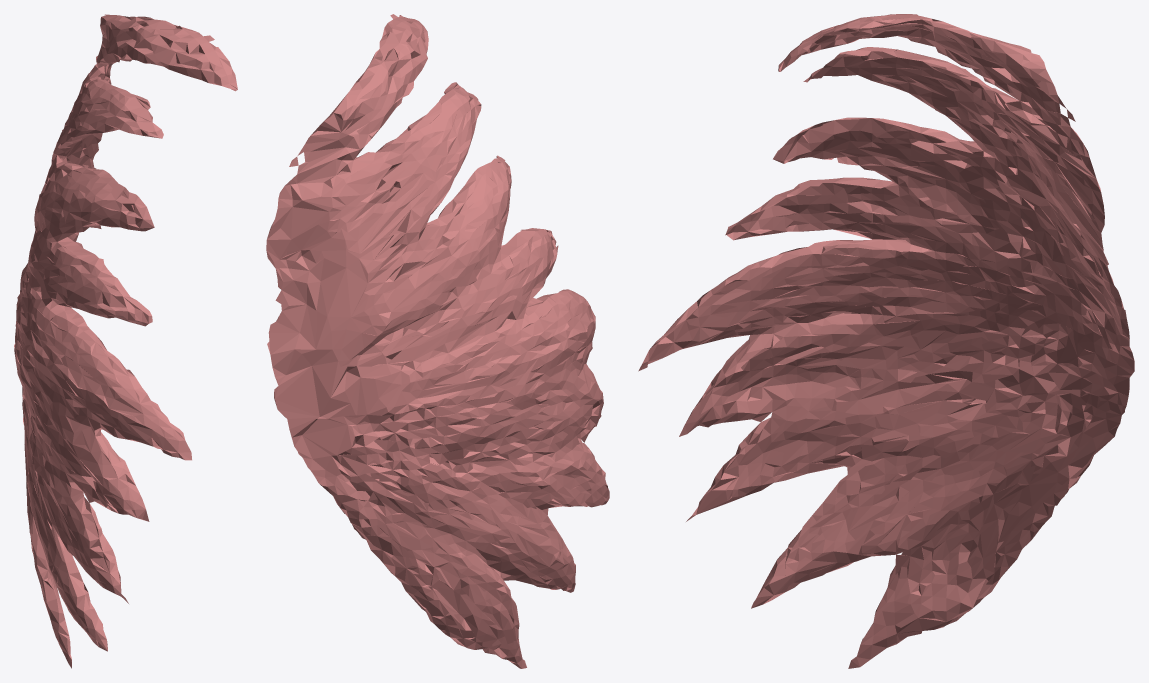
The model's file is Serratus_anterior_muscle.r.glb.
The picture shows the model from 3 angles, left to right: view 1: azimuth 30°, elevation 25°; view 2: azimuth 150°, elevation 25°; view 3: azimuth 270°, elevation 25°; orthographic projection. The views are drawn at different scales.
Parts seen in each view (by area): view 1: Serratus_anterior_muscle.r; view 2: Serratus_anterior_muscle.r; view 3: Serratus_anterior_muscle.r.
Boxes of the visible parts, box(x1,y1,x2,y2) form: Serratus_anterior_muscle.r: box(14, 14, 237, 668); Serratus_anterior_muscle.r: box(266, 14, 609, 668); Serratus_anterior_muscle.r: box(638, 14, 1134, 668).
Size of the model in its own units: 0.0852 by 0.2736 by 0.1703.
